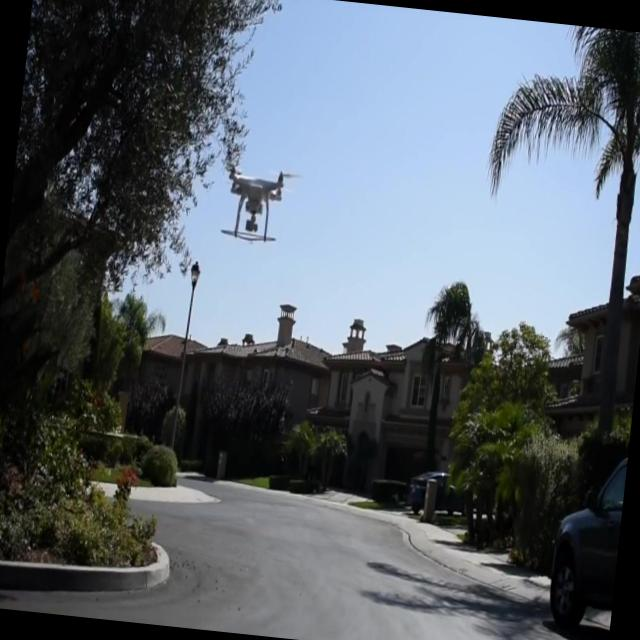drone: (217, 161, 302, 249)
